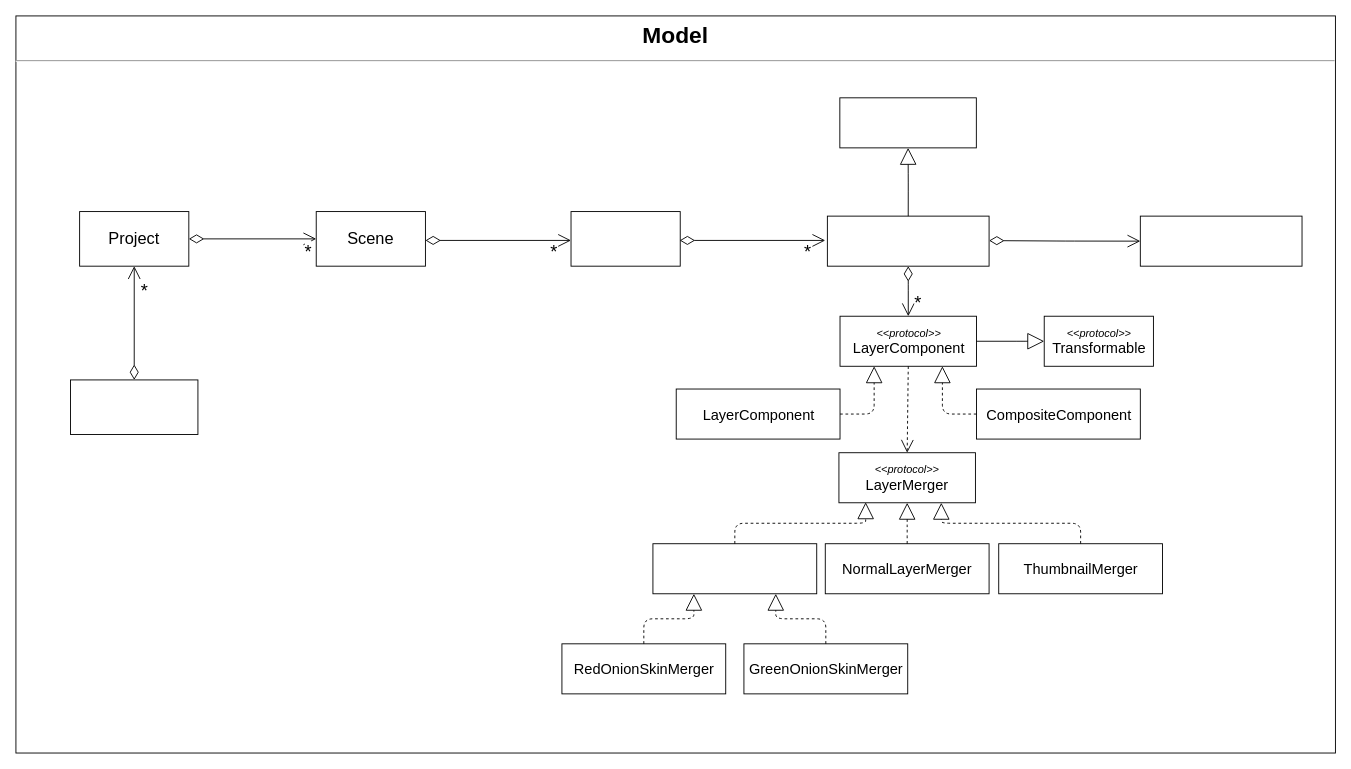
The diagram is 1351 pixels wide and 769 high, and some of its shapes have lost their labels. Each missing label, with the centre of its shape:
"<<protocol>> Thumbnailable" goes at (x=907, y=122).
"ImageMerger" goes at (x=734, y=568).
"Layer" goes at (x=907, y=240).
"ModelManager" goes at (x=134, y=407).
"Shot" goes at (x=625, y=238).
"Thumbnail" goes at (x=1220, y=240).
